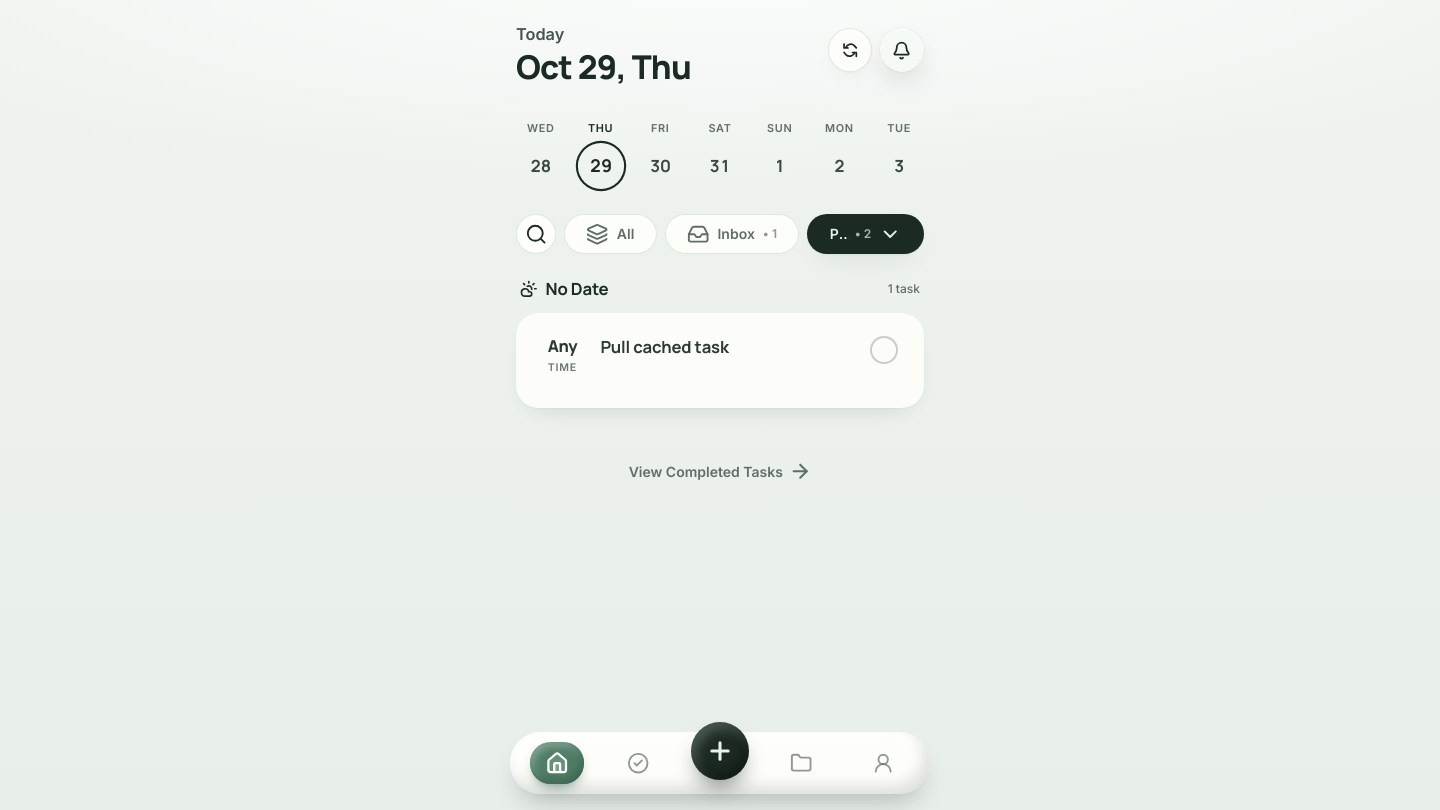
Test: tasks flow › refreshes grouped tasks from pull down without clearing cached content
The width and height of the screenshot is (1440, 810).
Check: the heading "Pull cached task" is shown, box [600,335,729,358]
Press the mouse on the element with test id "pull-to-refresh" at (720, 331), box [516,254,924,408]
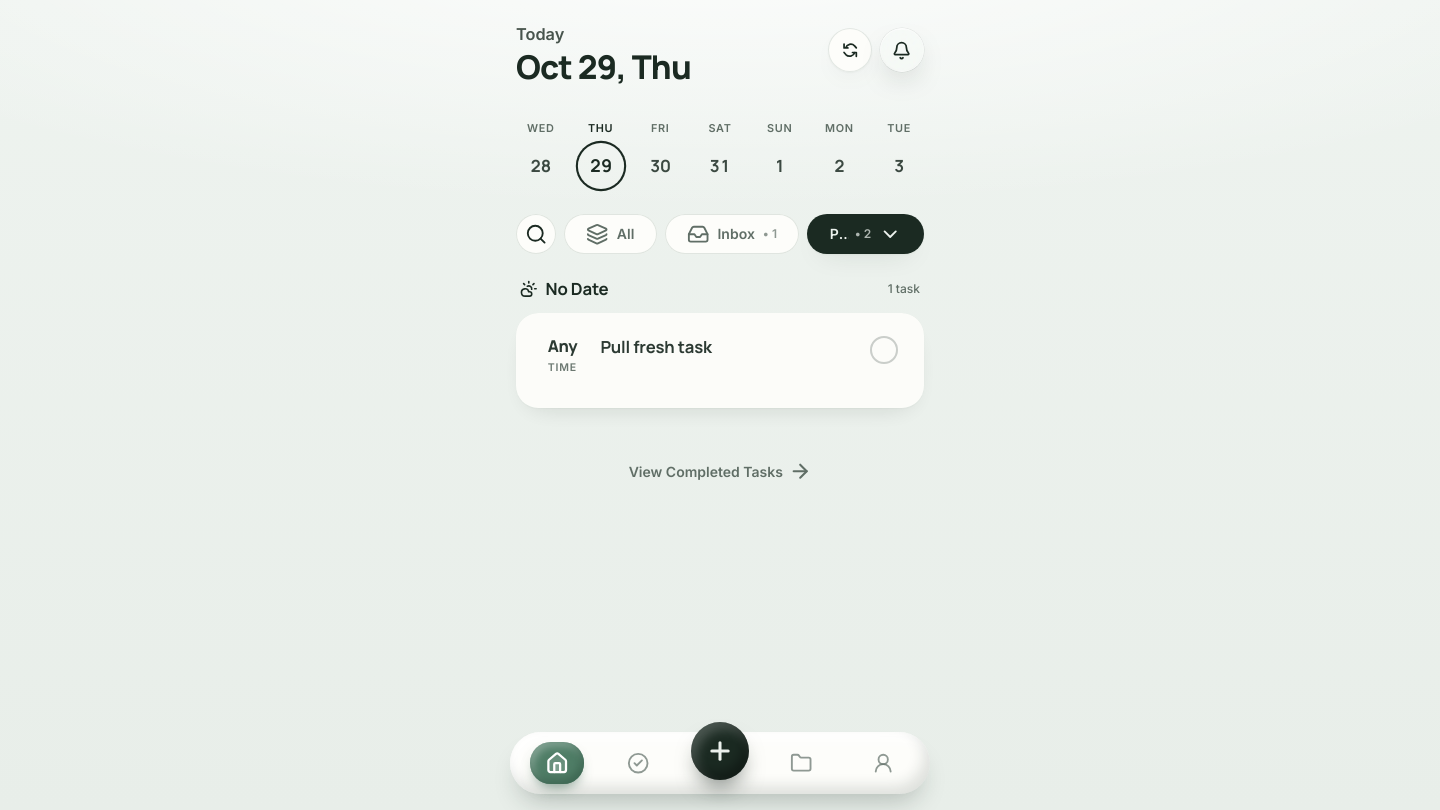
Check: the heading "Pull fresh task" is shown, box [600,335,712,358]
